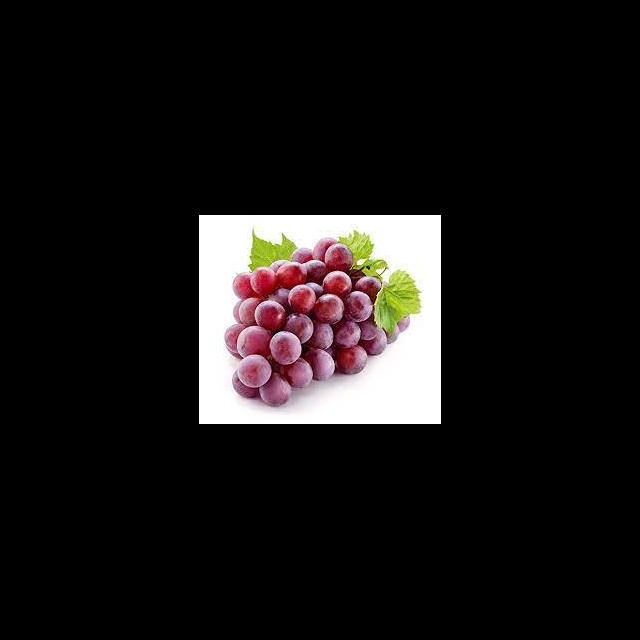grape: (223, 236, 410, 406)
